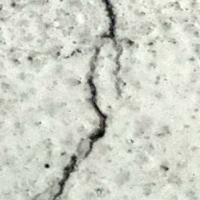crack: (45, 0, 141, 187)
